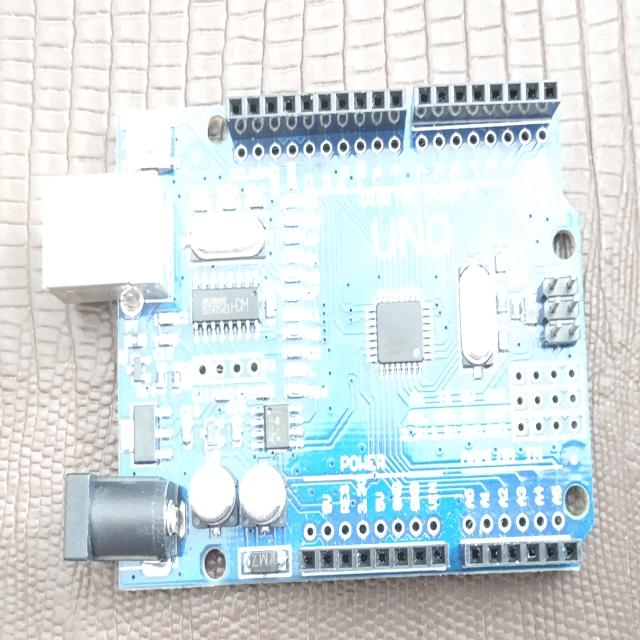arduino: (27, 70, 608, 593)
